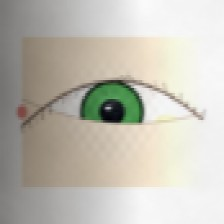pinguecula_lesion: (143, 101, 190, 139)
